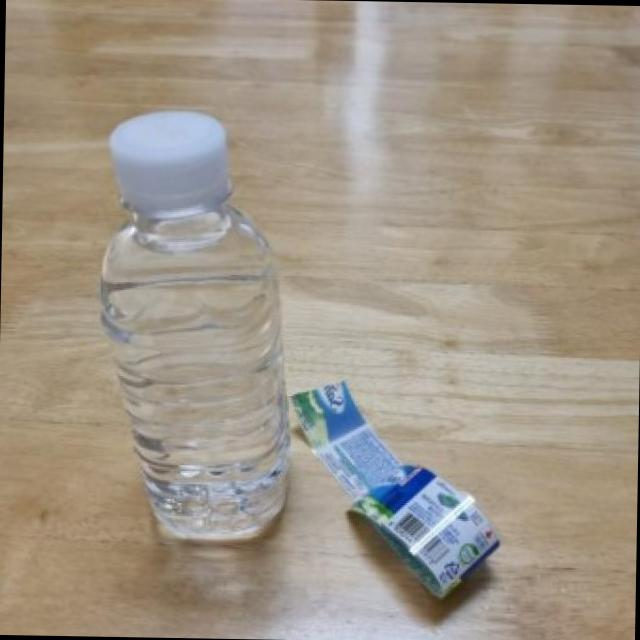plastic_bottle: (95, 109, 296, 542)
